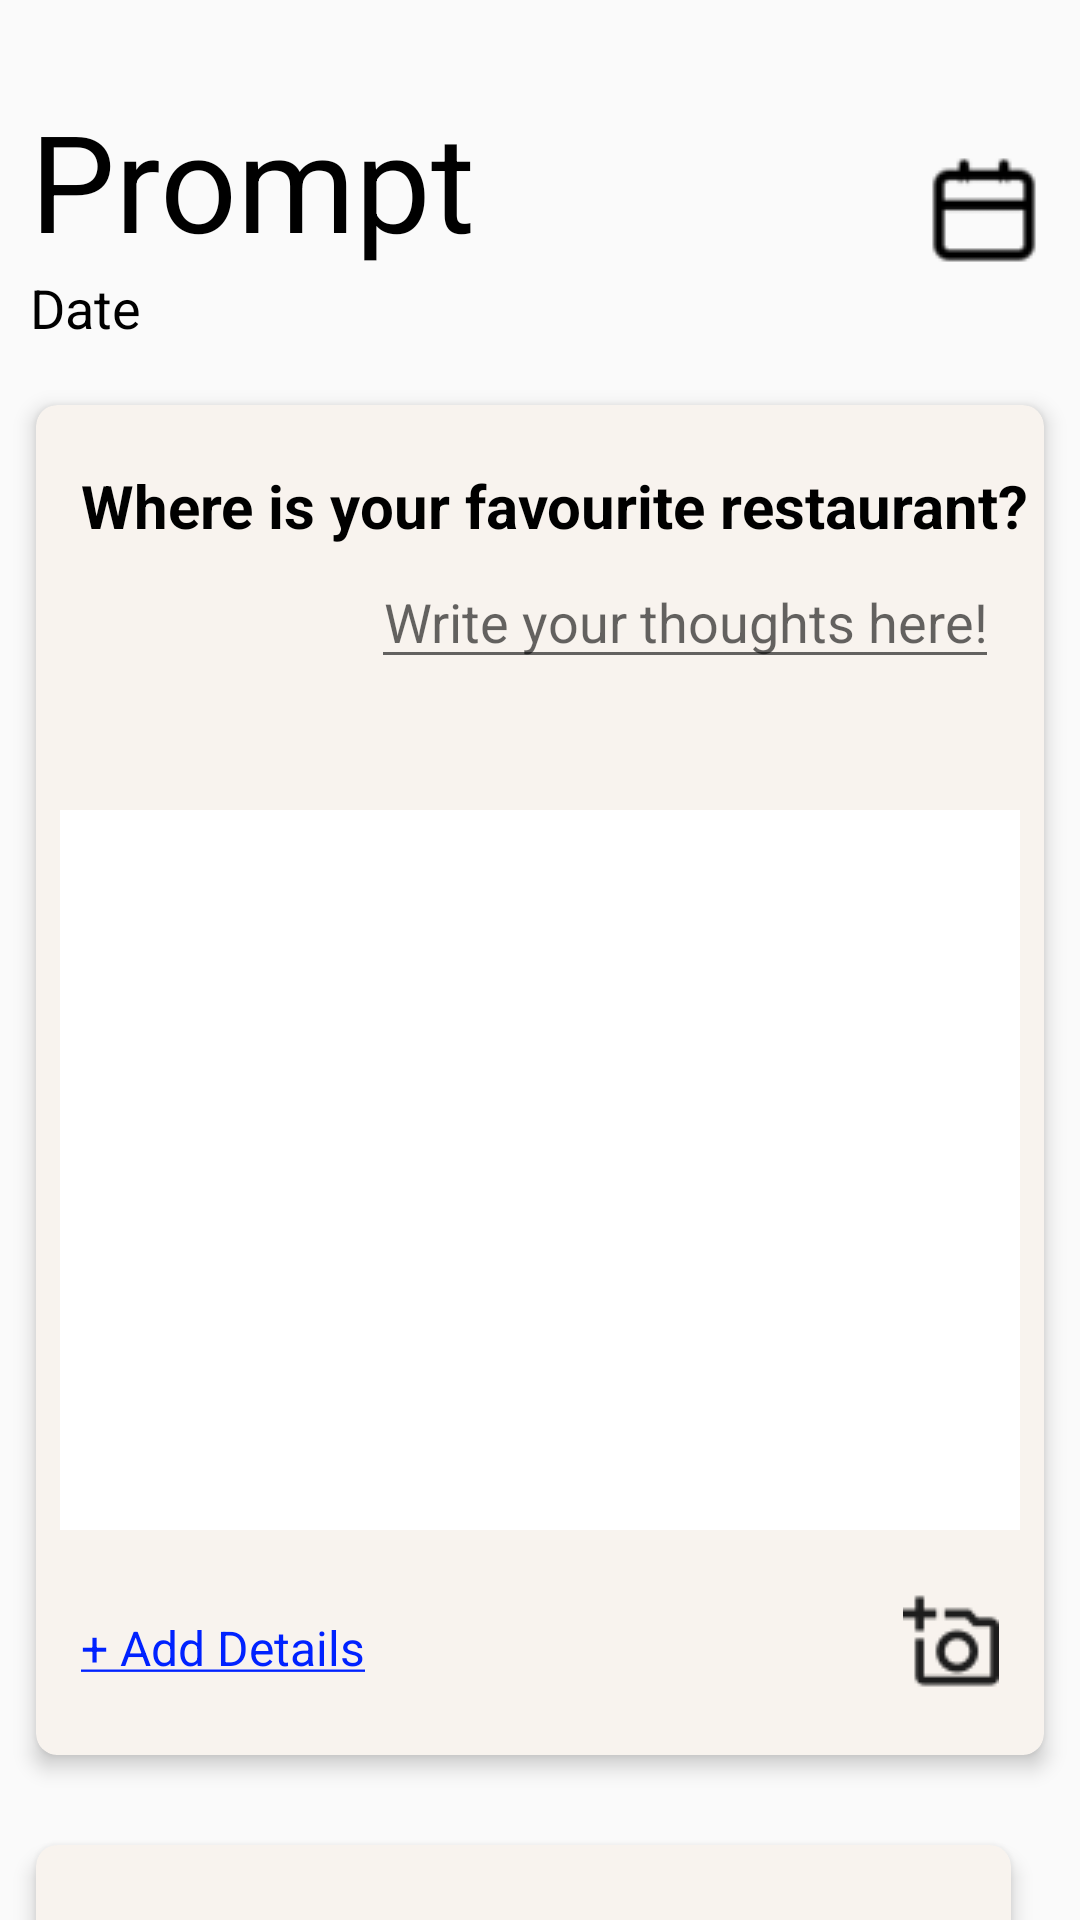

Icon click points for this 1080 × 1920 phone screenshot, format (x,y):
calendar: (984,210)
